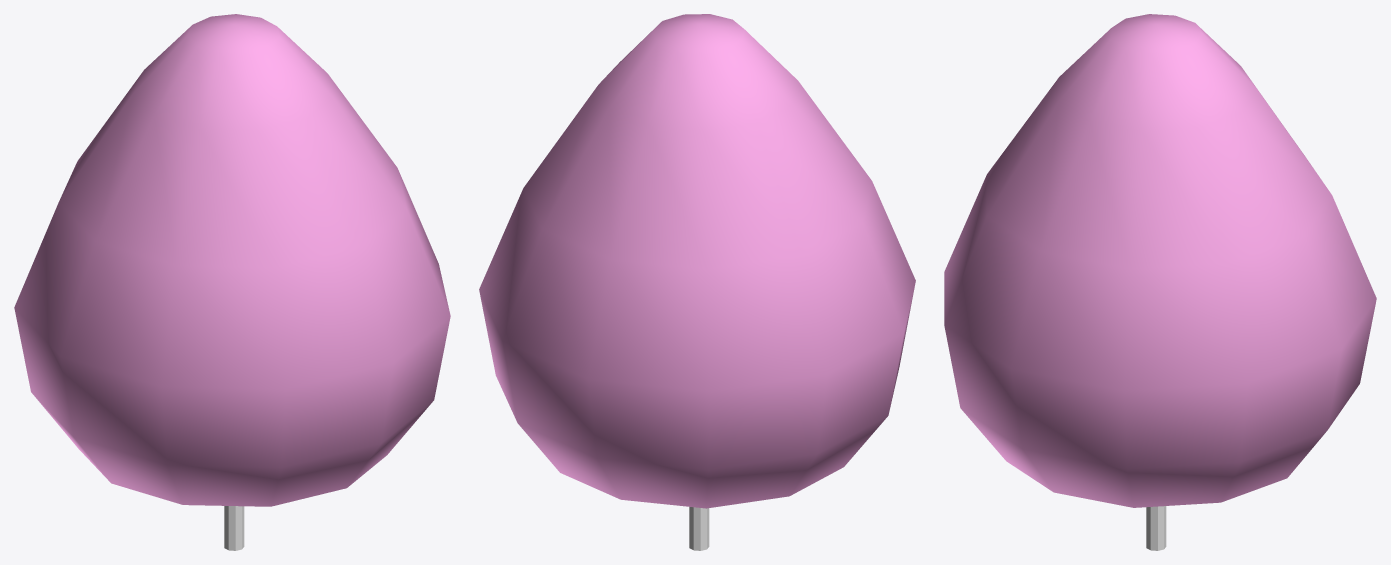
File: 8_PinkTree.fbx
The picture shows the model from 3 angles, left to right: view 1: azimuth 30°, elevation 25°; view 2: azimuth 150°, elevation 25°; view 3: azimuth 270°, elevation 25°; orthographic projection.
Visible parts, largest first — view 1: Sphere.049, Cylinder.055; view 2: Sphere.049, Cylinder.055; view 3: Sphere.049, Cylinder.055.
Boxes of the visible parts, <box> form: Sphere.049: <box>14,14,450,506</box>; Cylinder.055: <box>224,506,244,550</box>; Sphere.049: <box>479,14,915,508</box>; Cylinder.055: <box>689,507,709,550</box>; Sphere.049: <box>944,14,1376,507</box>; Cylinder.055: <box>1146,506,1166,550</box>.
Size of the model in its own units: 119 by 157 by 118.
